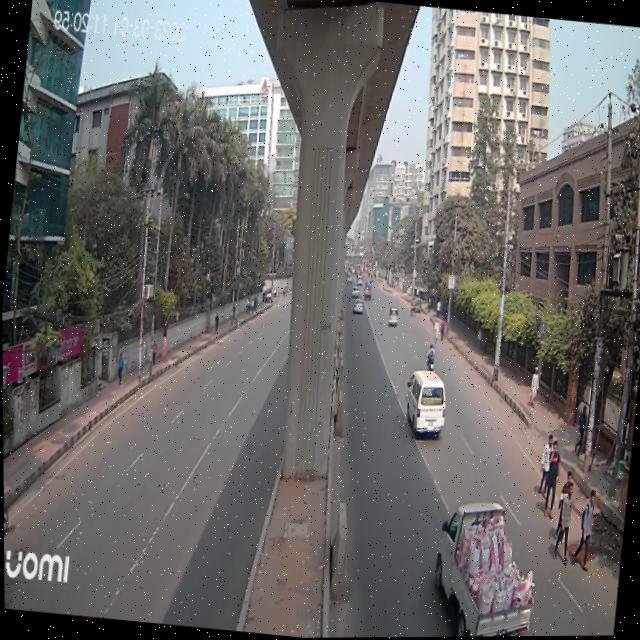cng: (384, 305, 398, 331)
